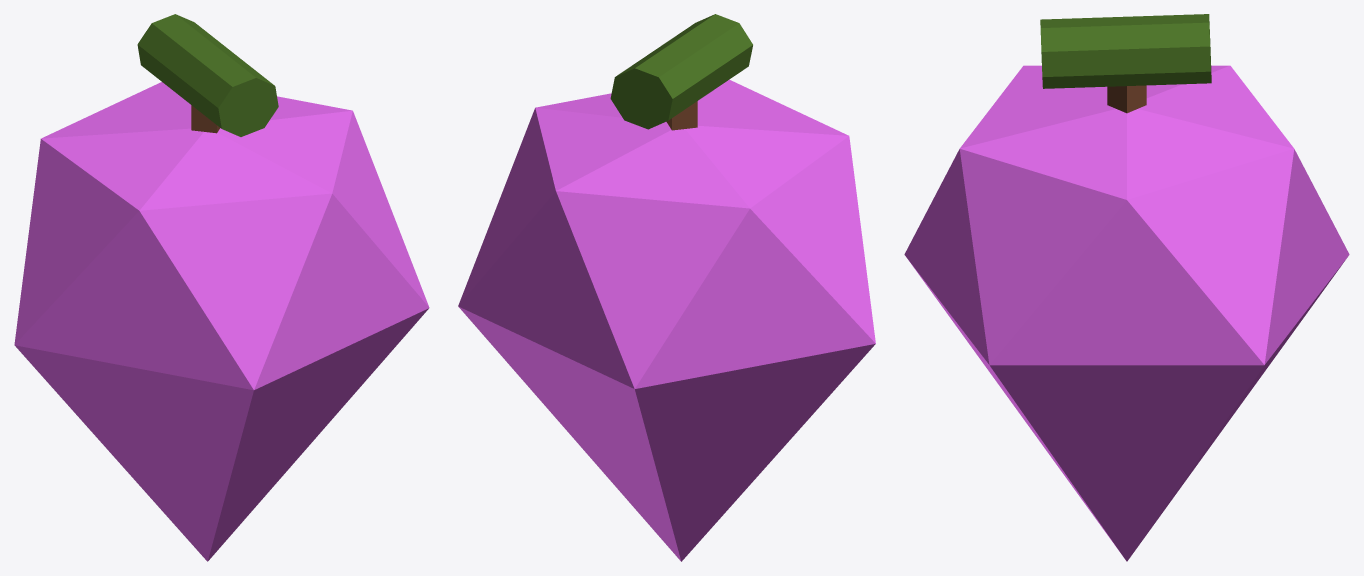
Rendered from GrapeLowPoly.fbx.
3 views of the same model, side by side, from view 1: azimuth 30°, elevation 25°; view 2: azimuth 150°, elevation 25°; view 3: azimuth 270°, elevation 25° (orthographic). The views are drawn at different scales.
Visible parts, largest first — view 1: Icosphere; view 2: Icosphere; view 3: Icosphere.
Part boxes in pixels (left/top/right/bottom): Icosphere: left=14, top=14, right=429, bottom=561; Icosphere: left=458, top=14, right=875, bottom=561; Icosphere: left=904, top=14, right=1349, bottom=561.
Bounding box in the file's own units: 215 × 305 × 226.
1 material, 1 textured.
